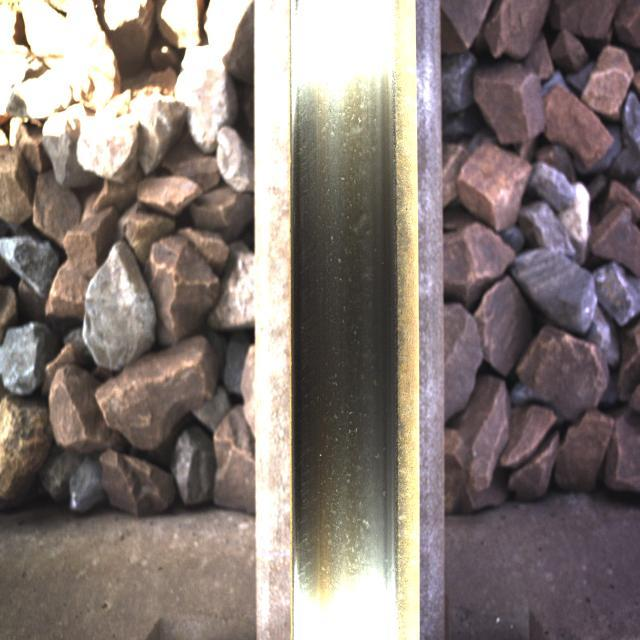break: (294, 56, 395, 596)
